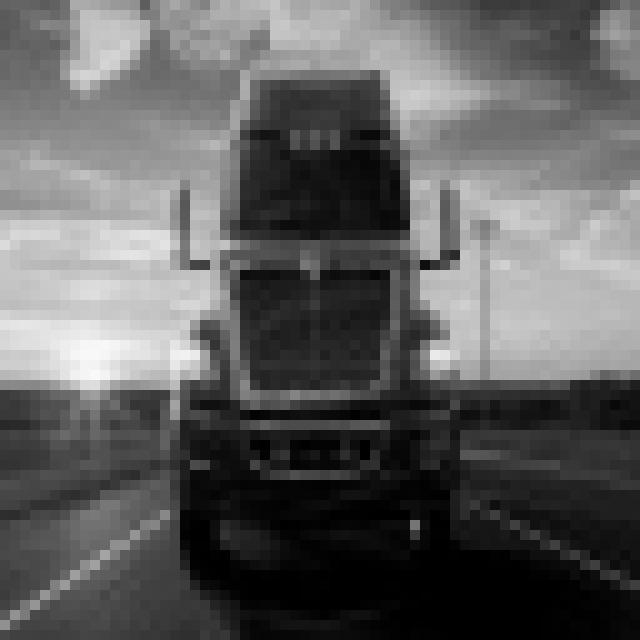trucks: (165, 55, 488, 568)
